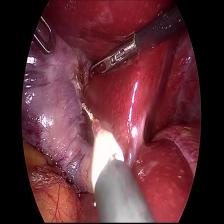Grasper: (88, 35, 145, 81), (32, 14, 58, 57)
Hook: (76, 96, 130, 183)
